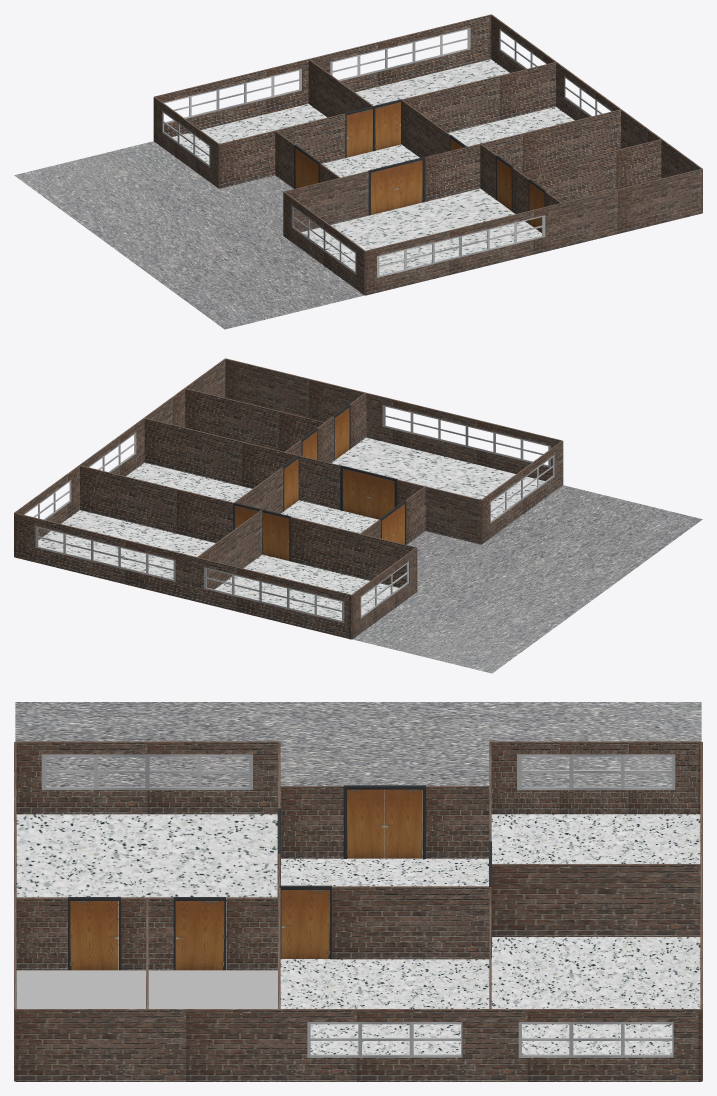
Rendered from Edificio.obj.
3 renders of one model, top to bottom at view 1: azimuth 30°, elevation 25°; view 2: azimuth 150°, elevation 25°; view 3: azimuth 270°, elevation 25°, orthographic. The views are drawn at different scales.
Parts seen in each view (by area): view 1: Plane007, Box005, Plane008, Box002, Box009, Box006, Box027, Box007, Box004, Box010, Plane002, Plane001 (+19 smaller); view 2: Plane007, Box005, Box002, Box009, Box006, Plane008, Box007, Plane002, Box027, Plane001, Box004, Box010 (+19 smaller); view 3: Plane007, Box004, Plane008, Plane002, Box001, Plane003, Box011, Box008, Plane001, Plane009, Box003, Plane004 (+18 smaller).
Boxes of the visible parts, x1=… form: Plane007: x1=14, y1=141, x2=364, y2=329; Box005: x1=365, y1=168, x2=702, y2=295; Plane008: x1=301, y1=188, x2=541, y2=275; Box002: x1=154, y1=14, x2=491, y2=136; Box009: x1=425, y1=109, x2=620, y2=201; Box006: x1=402, y1=62, x2=555, y2=132; Box027: x1=521, y1=139, x2=661, y2=202; Box007: x1=219, y1=113, x2=345, y2=188; Box004: x1=491, y1=14, x2=702, y2=212; Box010: x1=284, y1=171, x2=368, y2=231; Plane002: x1=355, y1=59, x2=509, y2=105; Plane001: x1=172, y1=104, x2=326, y2=164; Plane007: x1=352, y1=485, x2=702, y2=673; Box005: x1=225, y1=358, x2=562, y2=480; Box002: x1=14, y1=513, x2=351, y2=639; Box009: x1=144, y1=418, x2=340, y2=509; Box006: x1=79, y1=465, x2=233, y2=543; Plane008: x1=331, y1=437, x2=544, y2=520; Box007: x1=290, y1=517, x2=416, y2=587; Plane002: x1=38, y1=510, x2=215, y2=579; Box027: x1=185, y1=388, x2=325, y2=451; Plane001: x1=215, y1=554, x2=398, y2=620; Box004: x1=14, y1=358, x2=225, y2=556; Box010: x1=397, y1=479, x2=481, y2=544; Plane007: x1=15, y1=702, x2=701, y2=857; Box004: x1=15, y1=1009, x2=701, y2=1081; Plane008: x1=16, y1=814, x2=277, y2=969; Plane002: x1=491, y1=937, x2=700, y2=1054; Box001: x1=492, y1=864, x2=701, y2=936; Plane003: x1=280, y1=959, x2=489, y2=1054; Box011: x1=15, y1=741, x2=279, y2=814; Box008: x1=332, y1=886, x2=489, y2=959; Plane001: x1=491, y1=814, x2=700, y2=863; Plane009: x1=16, y1=970, x2=277, y2=1008; Box003: x1=490, y1=741, x2=701, y2=814; Plane004: x1=281, y1=858, x2=488, y2=886.
Bounding box in the file's own units: 670 × 59.65 × 514.
